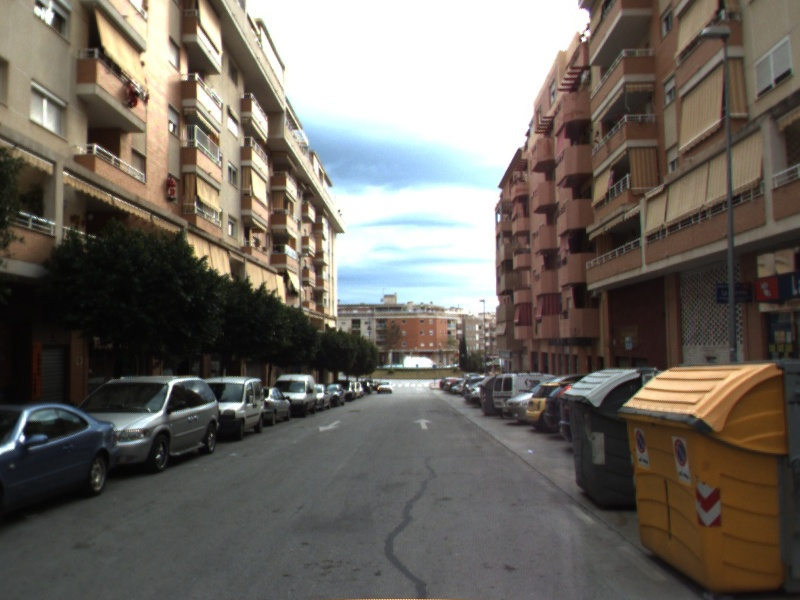STRAIGHT: (411, 416, 434, 432)
